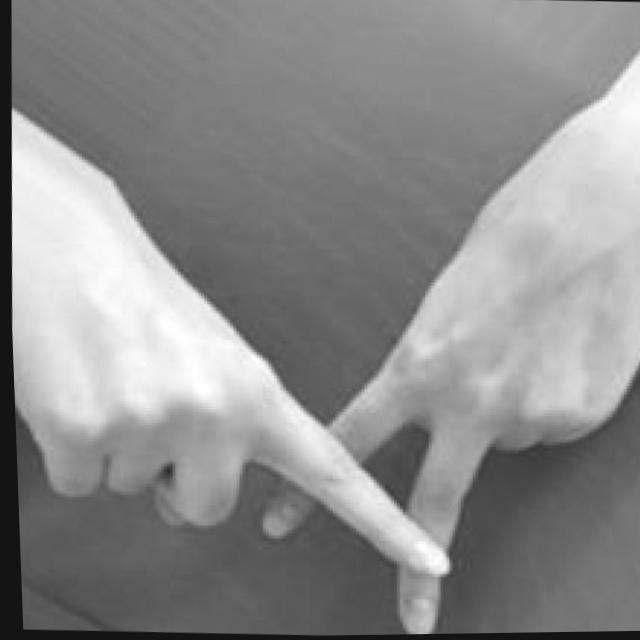A: (6, 154, 640, 640)
